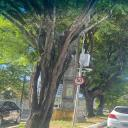speed_limit_50: (73, 76, 86, 86)
